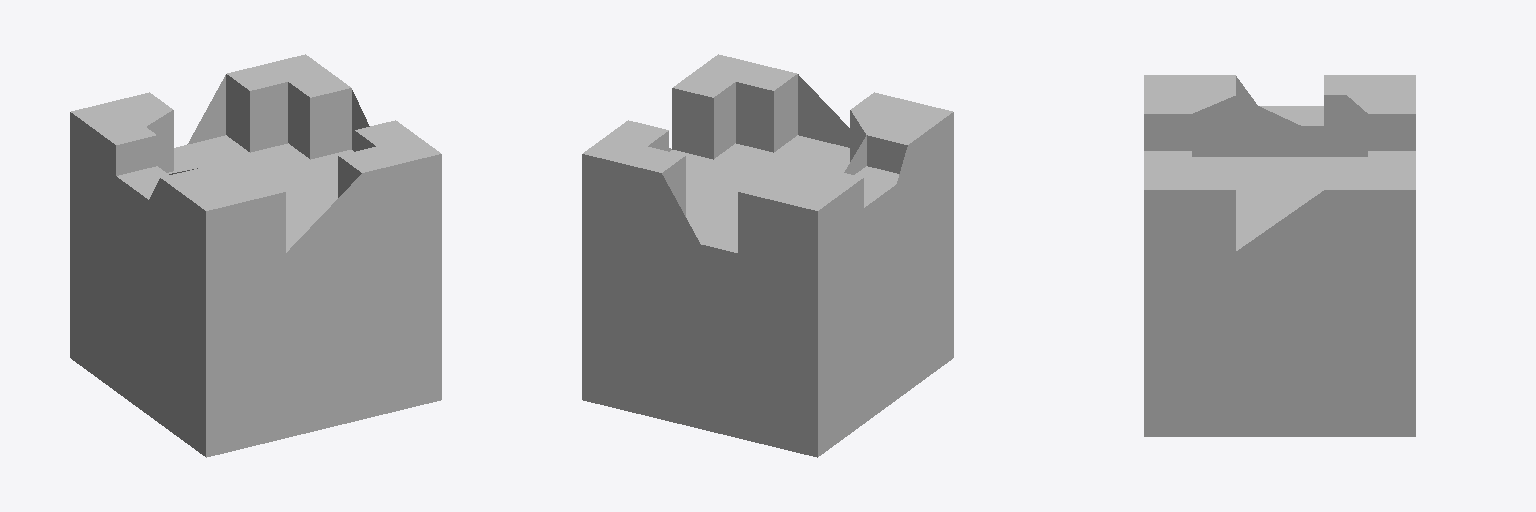
The model's file is tower3.obj.
3 renders of one model, left to right at view 1: azimuth 30°, elevation 25°; view 2: azimuth 150°, elevation 25°; view 3: azimuth 270°, elevation 25°, orthographic.
Visible parts, largest first — view 1: Kostka; view 2: Kostka; view 3: Kostka.
Boxes of the visible parts, box(x1,y1,x2,y2) form: Kostka: box(70, 54, 441, 457); Kostka: box(582, 54, 953, 457); Kostka: box(1144, 75, 1415, 436).
Size of the model in its own units: 2 by 2 by 2.